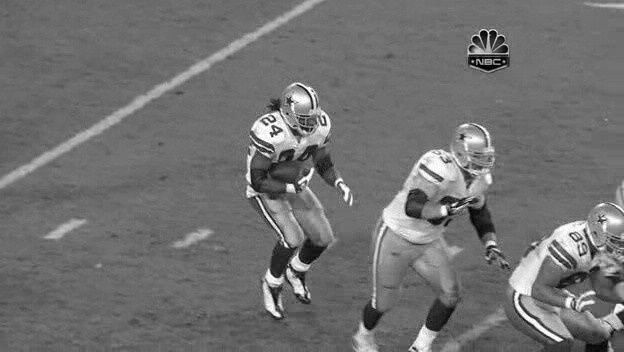person: (284, 84, 320, 133), (283, 84, 319, 133), (285, 84, 321, 133), (284, 83, 320, 132), (284, 85, 320, 134)
target_negative: (103, 57, 454, 277), (65, 252, 226, 313), (151, 308, 367, 329), (230, 302, 603, 313), (190, 322, 283, 327), (348, 81, 430, 85)
